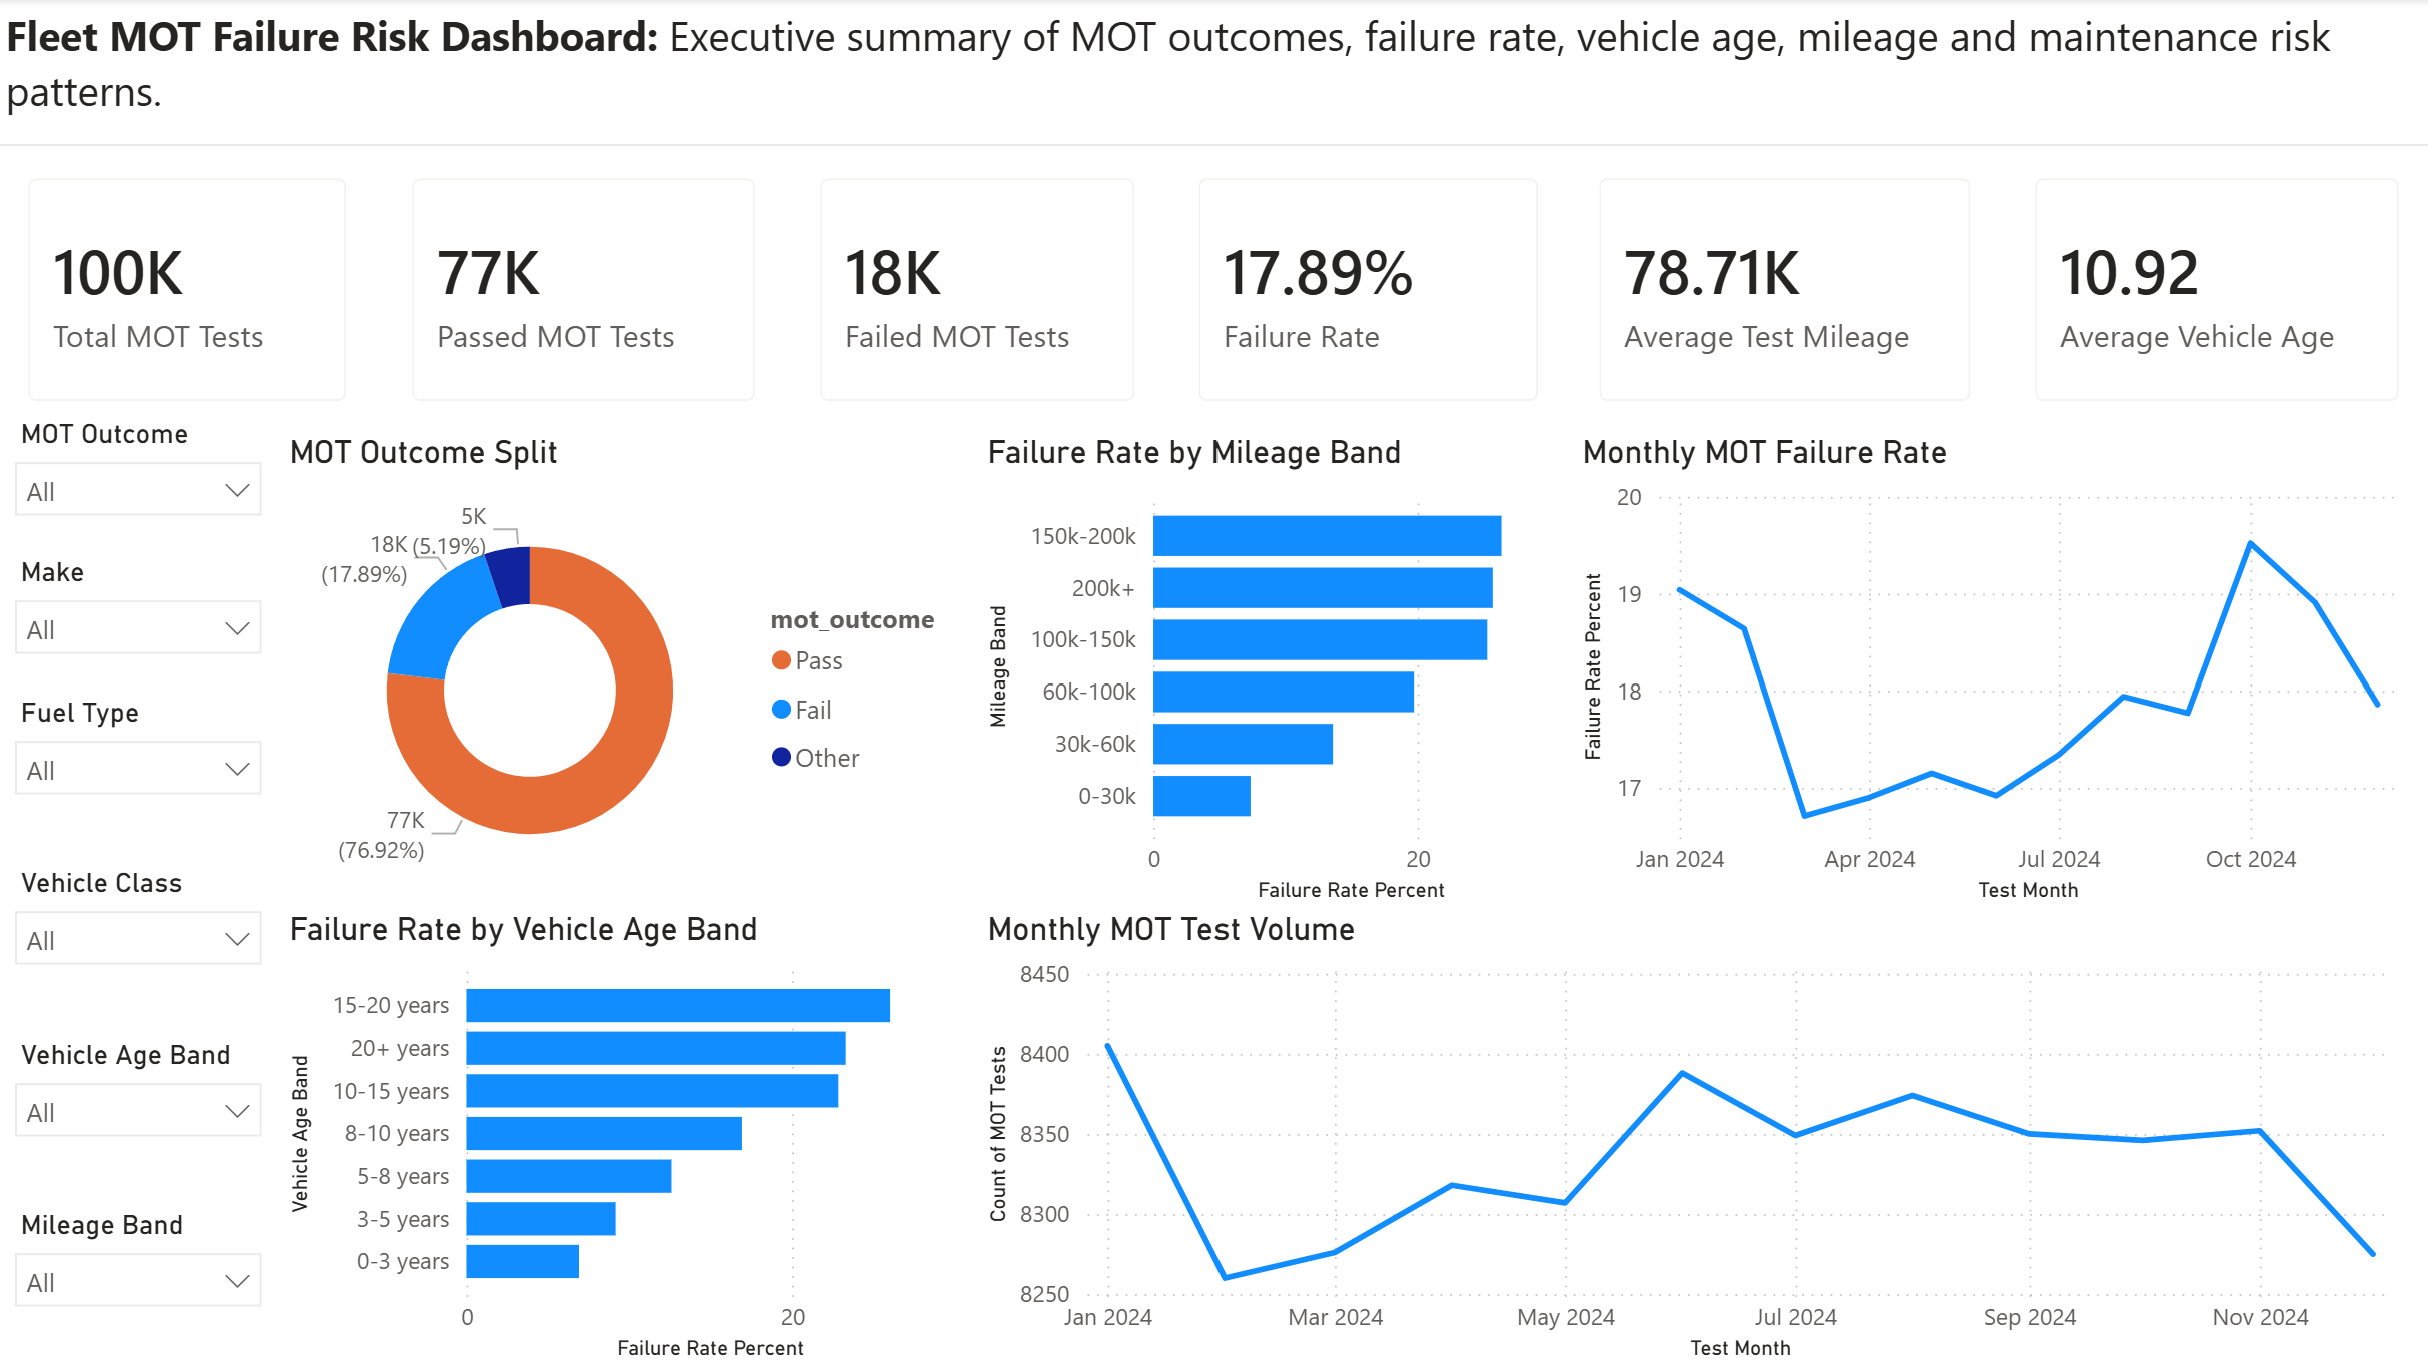

Layout of this report page (visuals, bound fields, positions):
{"tool":"powerbi","page":{"name":"Executive Summary","canvas":[1280,720],"ordinal":0},"visuals":[{"type":"textbox","box":[0,0,1280,78.3],"z":0},{"type":"cardVisual","fields":{"Data":["mot_record_level_dashboard.Total MOT Tests"]},"box":[0,78.3,201.9,151.1],"z":1000},{"type":"cardVisual","fields":{"Data":["mot_record_level_dashboard.Passed MOT Tests"]},"box":[201.9,78.3,214.2,151.1],"z":2000},{"type":"cardVisual","fields":{"Data":["mot_record_level_dashboard.Failed MOT Tests"]},"box":[416.1,78.3,199.1,151.1],"z":3000},{"type":"cardVisual","fields":{"Data":["mot_record_level_dashboard.Failure Rate"]},"box":[615.3,78.3,212.9,151.1],"z":4000},{"type":"cardVisual","fields":{"Data":["mot_record_level_dashboard.Average Test Mileage"]},"box":[825.4,78.3,229.4,151.1],"z":5000},{"type":"cardVisual","fields":{"Data":["mot_record_level_dashboard.Average Vehicle Age"]},"box":[1054.8,78.3,225.2,151.1],"z":6000},{"type":"donutChart","title":"MOT Outcome Split","fields":{"Category":["mot_record_level_dashboard.mot_outcome"],"Y":["mot_record_level_dashboard.Total MOT Tests"]},"box":[149.7,229.4,366.7,250],"z":7000},{"type":"barChart","title":"Failure Rate by Vehicle Age Band","fields":{"Category":["age_band_performance.vehicle_age_band"],"Y":["Avg(age_band_performance.failure_rate_percent)"]},"box":[149.7,479.3,366.7,240.3],"z":8000},{"type":"barChart","title":"Failure Rate by Mileage Band","fields":{"Category":["mileage_band_performance.mileage_band"],"Y":["Avg(mileage_band_performance.failure_rate_percent)"]},"box":[516.4,229.4,311.8,250],"z":9000},{"type":"lineChart","title":"Monthly MOT Test Volume","fields":{"Y":["Sum(monthly_outcome_trend.test_count)"],"Category":["monthly_outcome_trend.test_month"]},"box":[516.4,479.3,763.6,240.3],"z":10000},{"type":"lineChart","title":"Monthly MOT Failure Rate","fields":{"Category":["monthly_outcome_trend.test_month"],"Y":["Avg(monthly_outcome_trend.failure_rate_percent)"]},"box":[828.2,229.4,451.8,250],"z":11000},{"type":"slicer","fields":{"Values":["mot_record_level_dashboard.mot_outcome"]},"box":[0,215.6,149.7,72.8],"z":12000},{"type":"slicer","fields":{"Values":["mot_record_level_dashboard.make"]},"box":[0,288.4,149.7,72.8],"z":13000},{"type":"slicer","fields":{"Values":["mot_record_level_dashboard.fuel_type"]},"box":[0,361.2,149.7,89.3],"z":14000},{"type":"slicer","fields":{"Values":["mot_record_level_dashboard.vehicle_class"]},"box":[0,450.5,149.7,90.6],"z":15000},{"type":"slicer","fields":{"Values":["mot_record_level_dashboard.vehicle_age_band"]},"box":[0,541.1,149.7,89.3],"z":16000},{"type":"slicer","fields":{"Values":["mot_record_level_dashboard.mileage_band"]},"box":[0,630.4,149.7,90.6],"z":17000}]}

Visuals, with their boxes in screenshot pixels (x1, y1, x2, y2), scaled from the page's 1280x720 canvas onto the 2428x1364 screenshot:
textbox: [0, 0, 2427, 148]
cardVisual - mot_record_level_dashboard.Total MOT Tests: [0, 148, 383, 435]
cardVisual - mot_record_level_dashboard.Passed MOT Tests: [383, 148, 789, 435]
cardVisual - mot_record_level_dashboard.Failed MOT Tests: [789, 148, 1167, 435]
cardVisual - mot_record_level_dashboard.Failure Rate: [1167, 148, 1571, 435]
cardVisual - mot_record_level_dashboard.Average Test Mileage: [1566, 148, 2001, 435]
cardVisual - mot_record_level_dashboard.Average Vehicle Age: [2001, 148, 2427, 435]
"MOT Outcome Split" donutChart: [284, 435, 980, 908]
"Failure Rate by Vehicle Age Band" barChart: [284, 908, 980, 1363]
"Failure Rate by Mileage Band" barChart: [980, 435, 1571, 908]
"Monthly MOT Test Volume" lineChart: [980, 908, 2427, 1363]
"Monthly MOT Failure Rate" lineChart: [1571, 435, 2427, 908]
slicer - mot_record_level_dashboard.mot_outcome: [0, 408, 284, 546]
slicer - mot_record_level_dashboard.make: [0, 546, 284, 684]
slicer - mot_record_level_dashboard.fuel_type: [0, 684, 284, 853]
slicer - mot_record_level_dashboard.vehicle_class: [0, 853, 284, 1025]
slicer - mot_record_level_dashboard.vehicle_age_band: [0, 1025, 284, 1194]
slicer - mot_record_level_dashboard.mileage_band: [0, 1194, 284, 1363]
